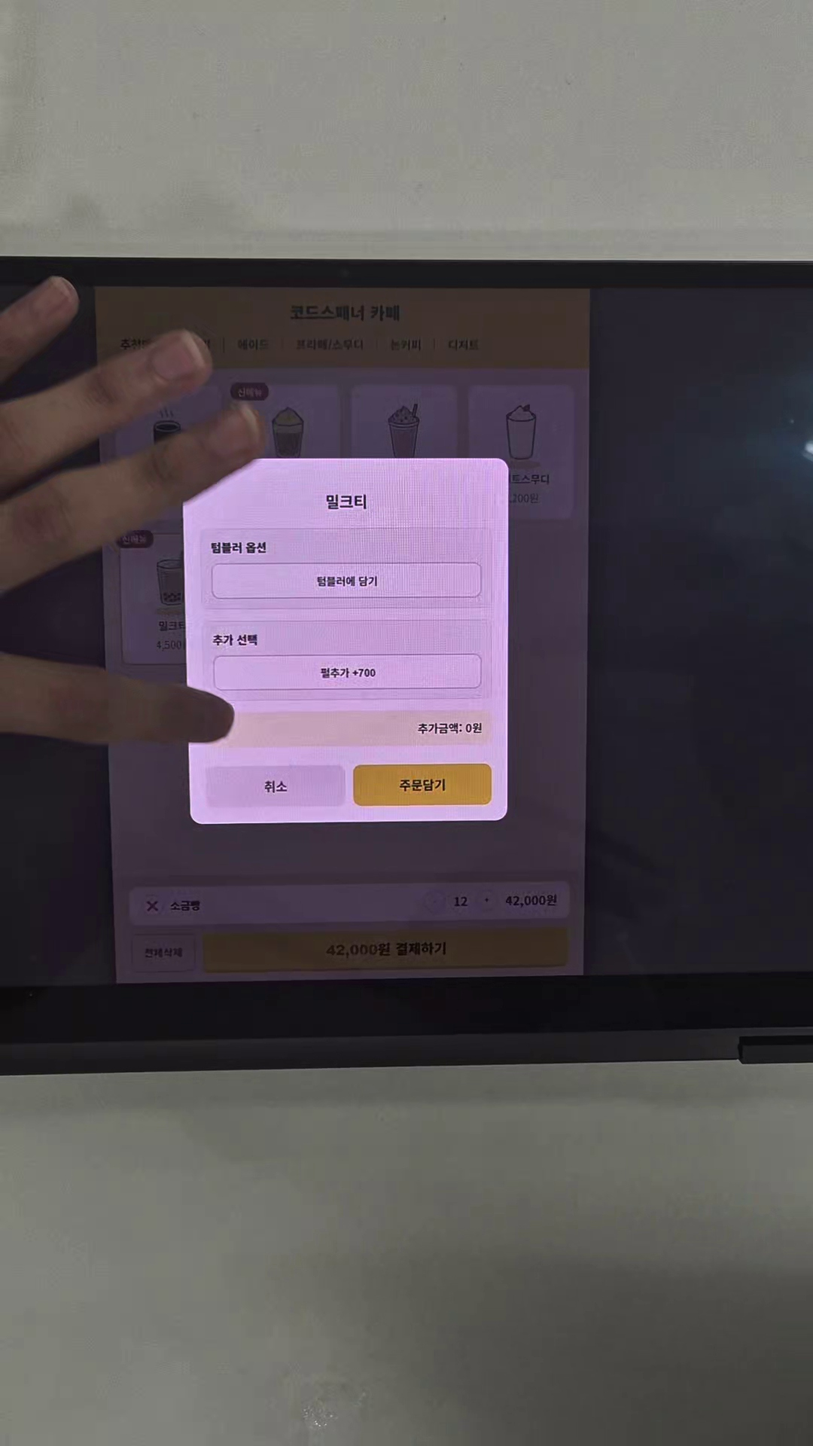action_button: (353, 765, 496, 806), (202, 767, 347, 807)
option_button: (211, 655, 481, 690), (213, 565, 485, 596)
popup_modal: (184, 451, 509, 823)
